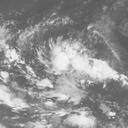cyclone: (36, 36, 108, 84)
